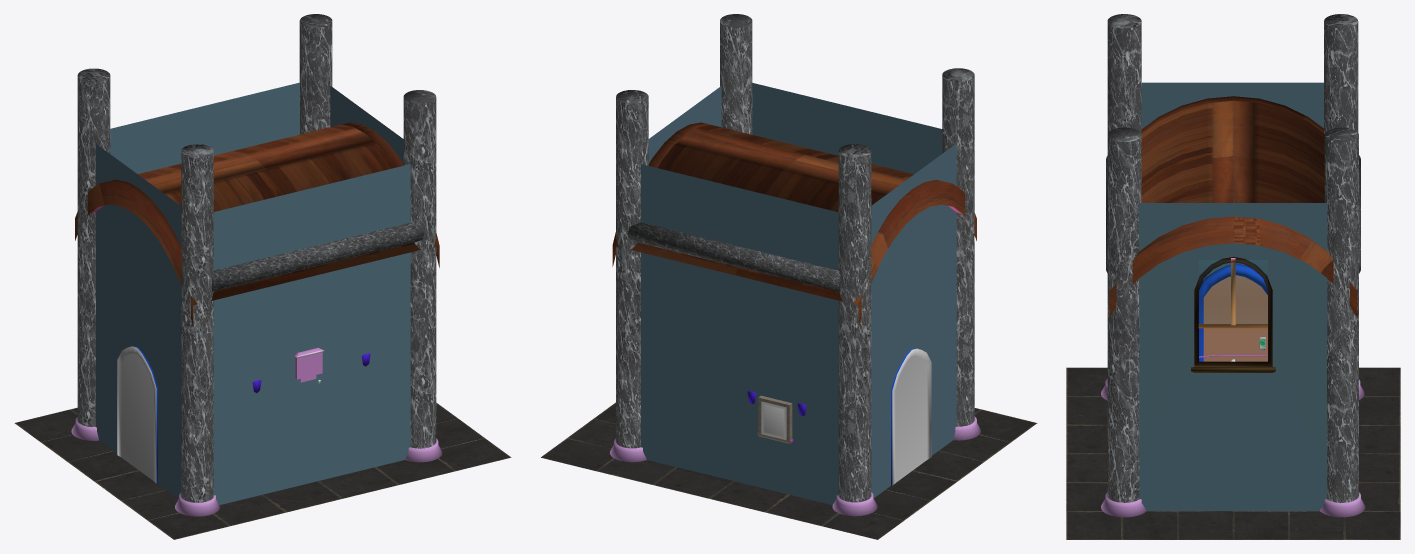
Rendered from mirror test.fbx.
3 views of the same model, side by side, from view 1: azimuth 30°, elevation 25°; view 2: azimuth 150°, elevation 25°; view 3: azimuth 270°, elevation 25° (orthographic). The views are drawn at different scales.
Parts seen in each view (by area): view 1: Walls, Cylinder, Roof.001, Floor, Cube, Toilet; view 2: Walls, Cylinder, Roof.001, Floor, Cube, Mirror; view 3: Walls, Cylinder, Roof.001, Floor, Cube.
Part boxes in pixels (box(x1,y1,x2,y2)): Walls: box(96, 82, 410, 504); Cylinder: box(71, 14, 442, 516); Roof.001: box(75, 122, 439, 327); Floor: box(14, 402, 511, 539); Cube: box(117, 346, 157, 483); Toilet: box(294, 347, 324, 383); Walls: box(641, 83, 956, 504); Cylinder: box(610, 14, 980, 516); Roof.001: box(612, 122, 976, 327); Floor: box(541, 402, 1037, 539); Cube: box(891, 348, 931, 485); Mirror: box(757, 395, 793, 443); Walls: box(1139, 82, 1327, 510); Cylinder: box(1101, 14, 1365, 517); Roof.001: box(1109, 96, 1357, 317); Floor: box(1066, 367, 1400, 539); Cube: box(1199, 263, 1267, 361).
Size of the model in its own units: 3604 by 3722 by 2954.
